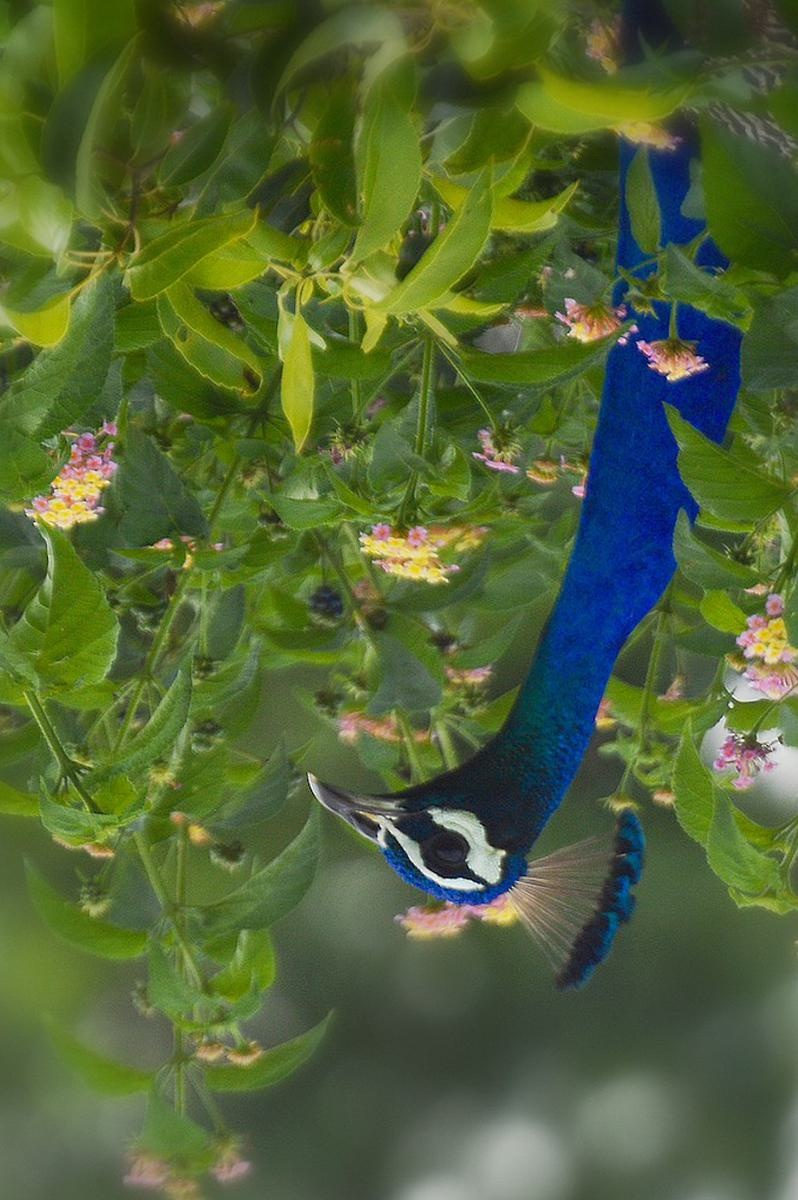peacock: (311, 289, 798, 1046)
